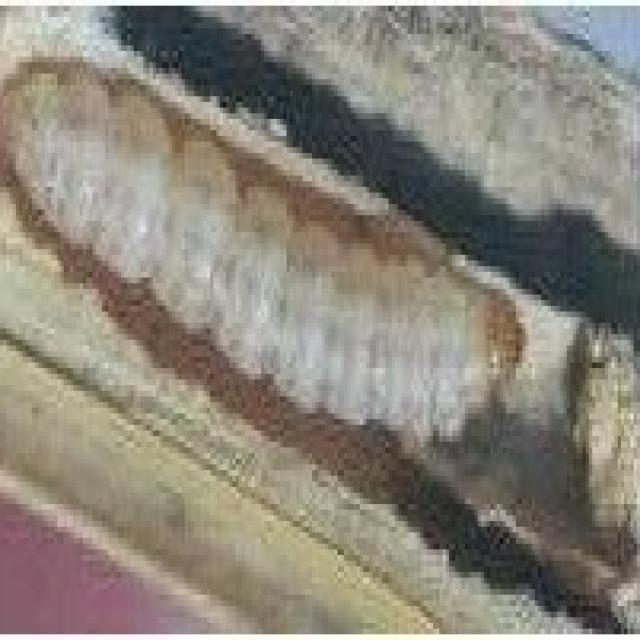peach borer: (6, 52, 525, 448)
